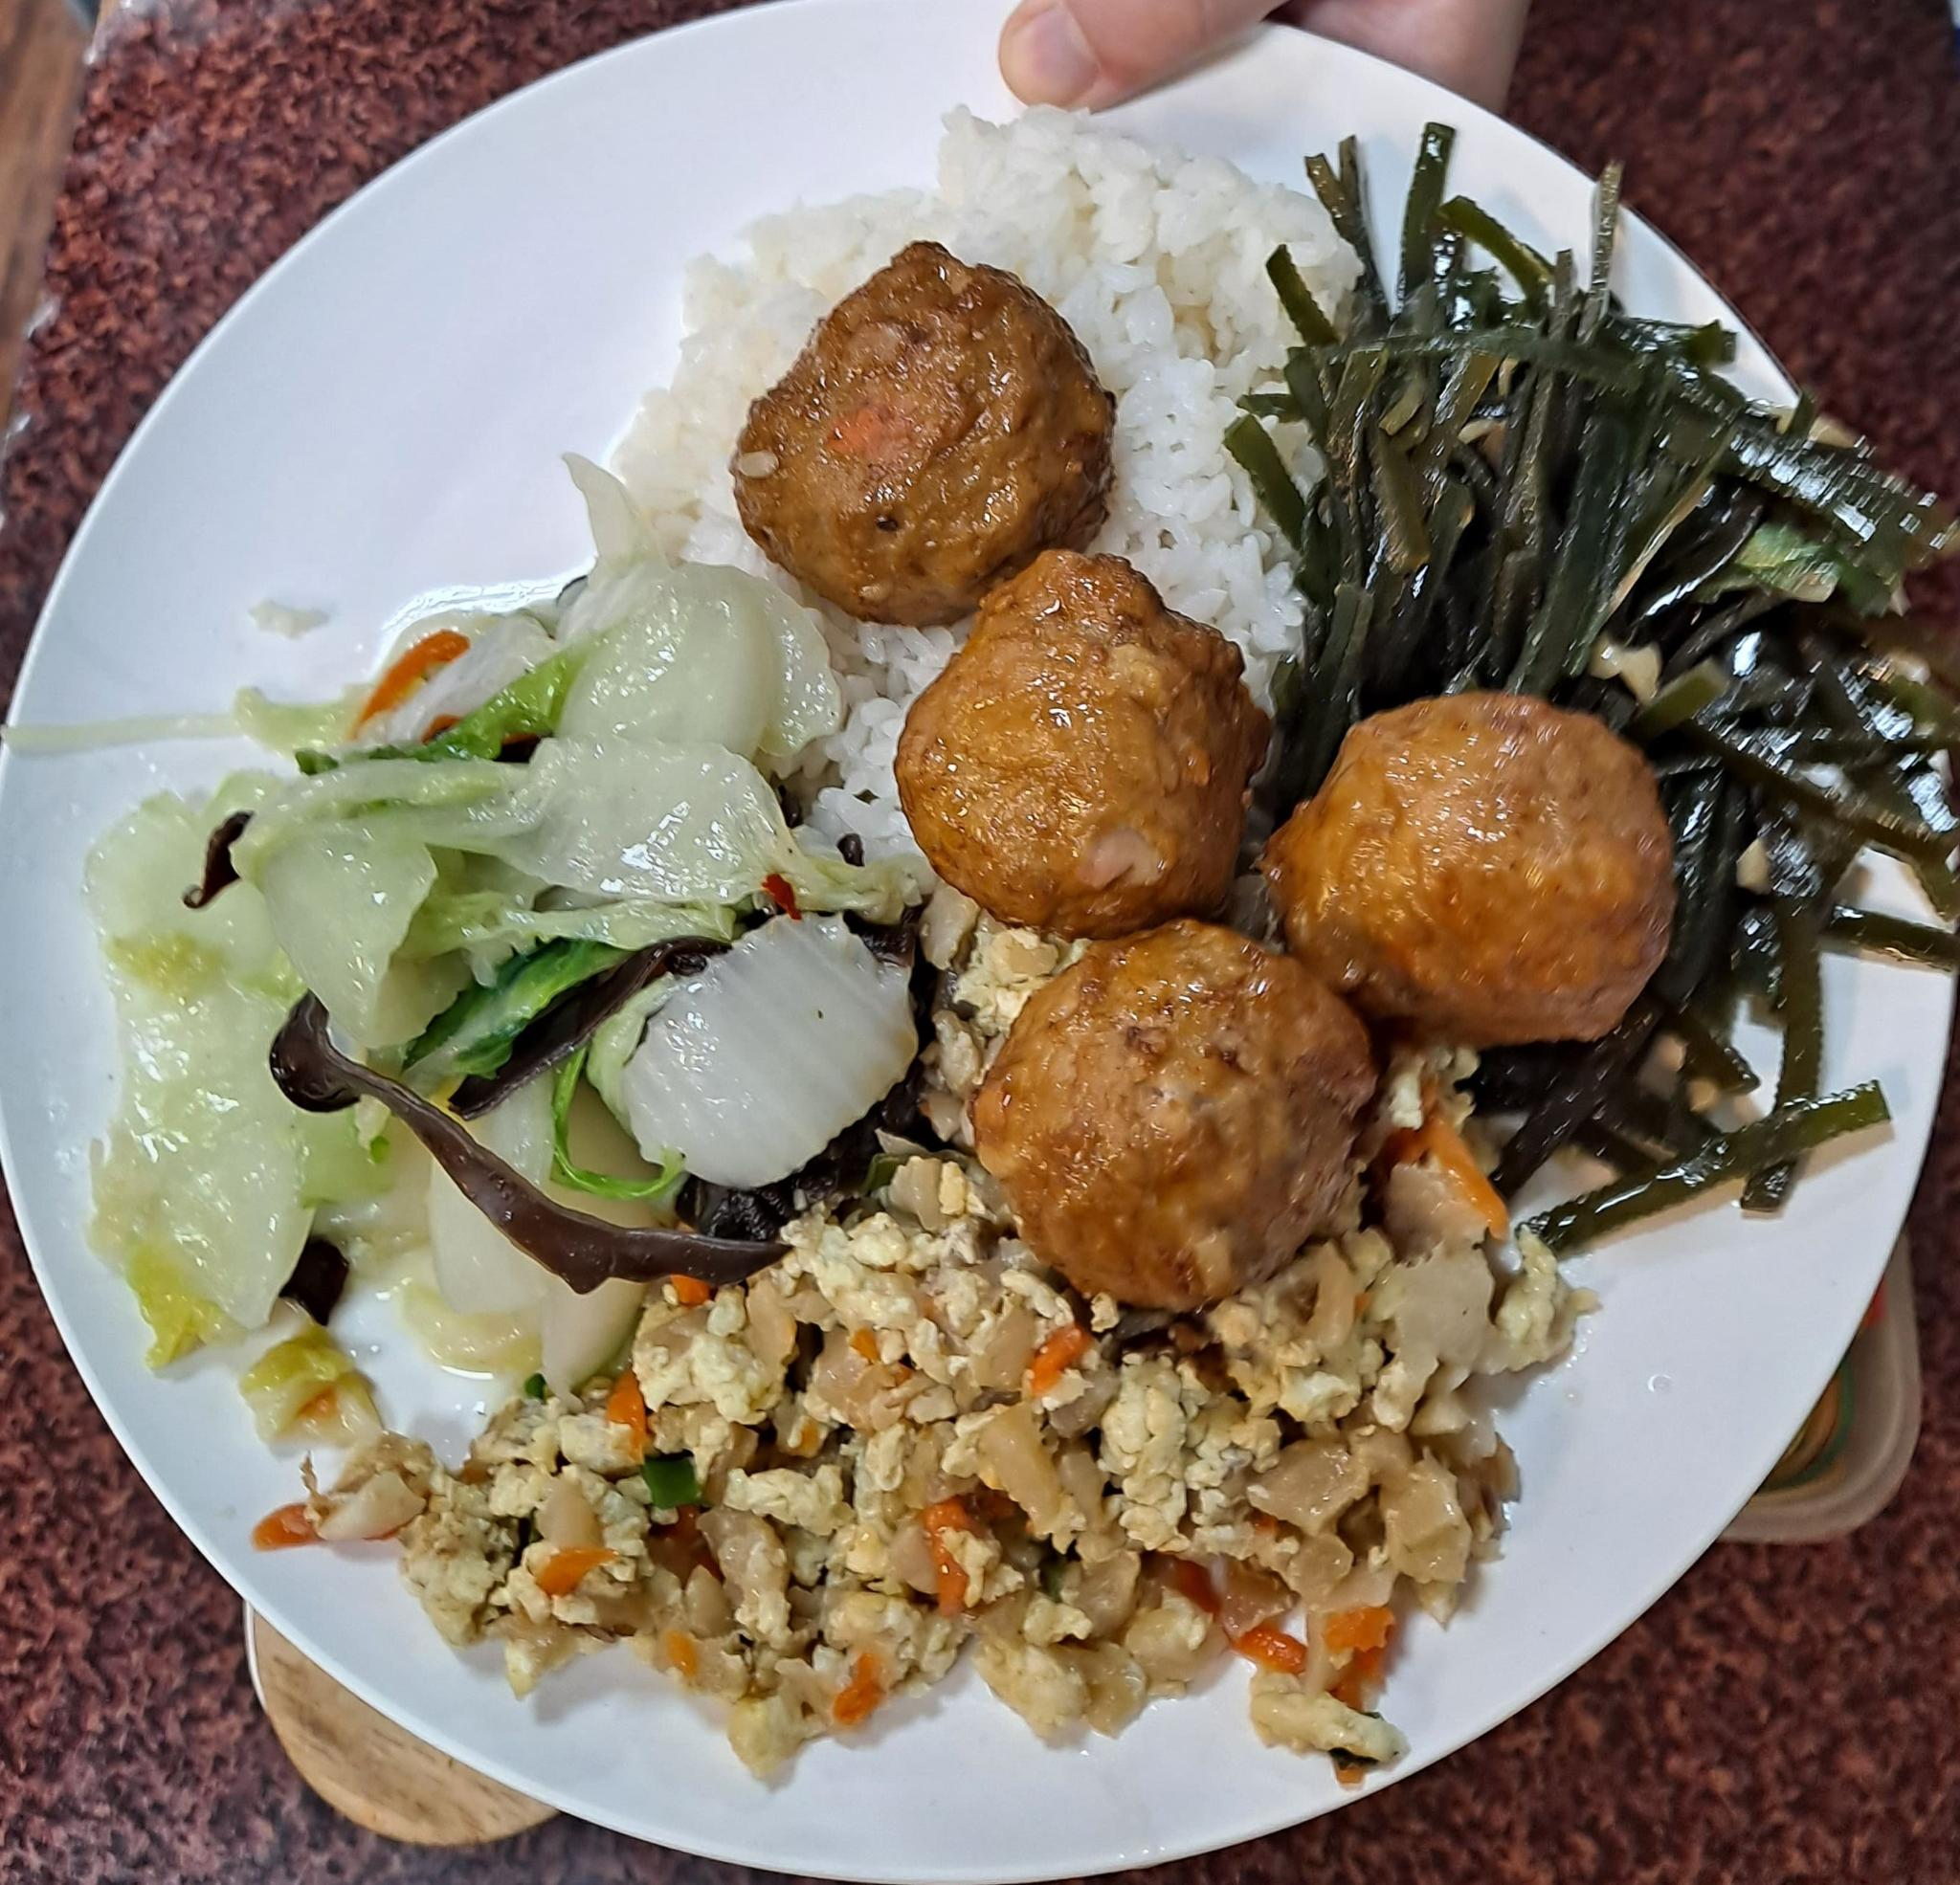big fried chicken leg: (0, 23, 1960, 1885)
big herbal chicken leg: (592, 89, 1387, 896)
braised fish fillet: (299, 1136, 1581, 1788), (1214, 132, 1952, 1234), (71, 552, 919, 1380)
braised pork: (717, 235, 1685, 1319)
